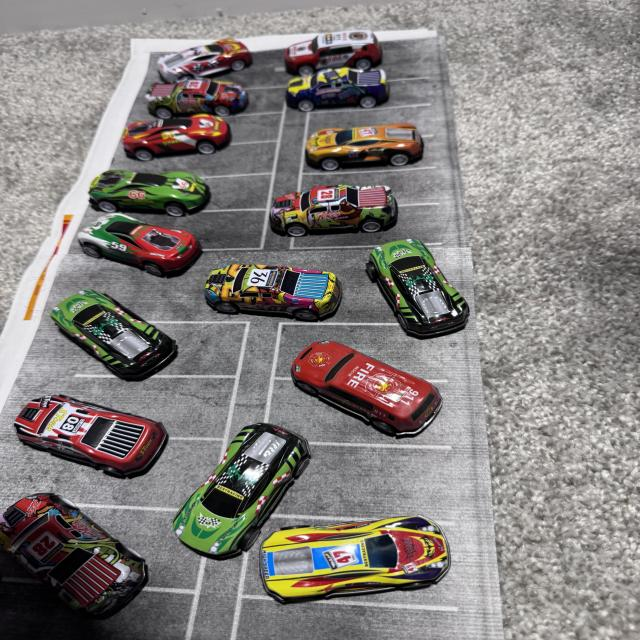Car: (251, 506, 465, 614), (0, 509, 178, 634), (174, 415, 323, 549), (269, 344, 454, 436), (329, 235, 489, 341), (187, 252, 365, 328), (27, 398, 181, 482), (48, 298, 178, 385), (299, 116, 458, 176), (72, 167, 276, 211), (78, 202, 207, 270), (134, 76, 278, 131), (132, 29, 283, 70), (269, 72, 398, 112), (286, 178, 426, 214), (100, 118, 223, 158), (276, 31, 388, 66)
